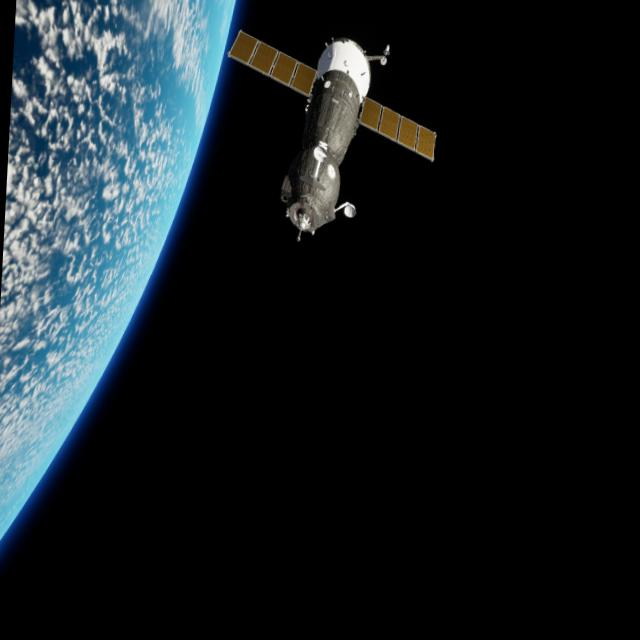Satellites revolving around earth: (216, 25, 443, 251)
